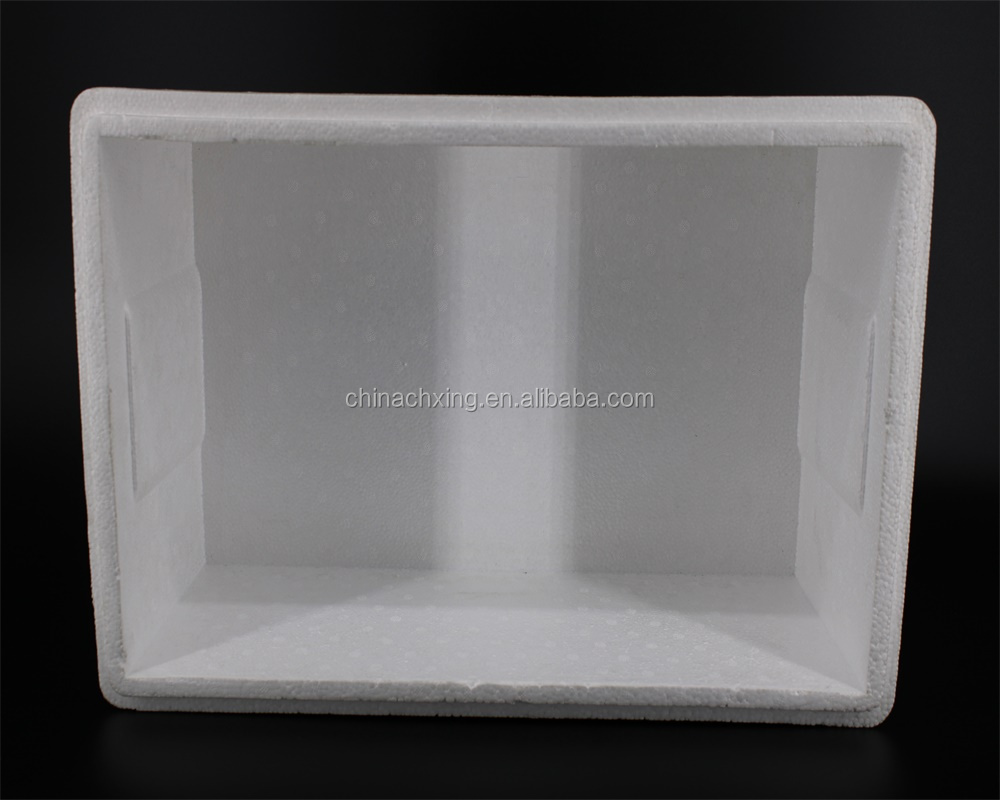Boxes: (71, 90, 935, 724)
